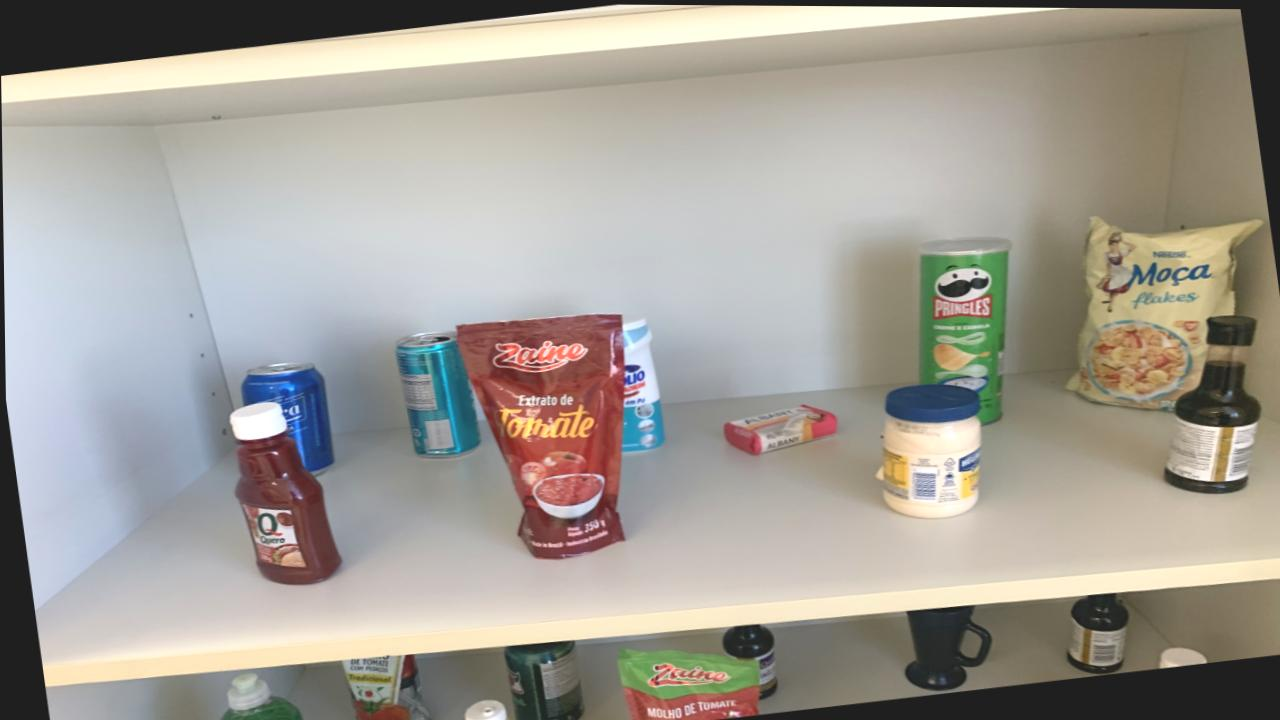Cleaner-Cleanup_Items: (620, 314, 664, 451)
Detergent-Cleanup_Items: (218, 673, 302, 720)
English_Sauce-Pantry_Items: (1162, 312, 1260, 492), (1065, 591, 1127, 672), (720, 623, 776, 698)
Flakes-Snacks: (1065, 215, 1262, 409)
Guarana_Can-Drinks: (501, 639, 582, 720)
Ketchup-Pantry_Items: (229, 402, 339, 585)
Mayonnaise-Pantry_Items: (880, 382, 981, 517)
Mustard-Pantry_Items: (1157, 645, 1205, 667), (462, 698, 506, 720)
Pringles-Snacks: (917, 235, 1011, 422)
Soap-Cleanup_Items: (723, 404, 836, 453)
Tea-Drinks: (395, 331, 479, 456)
Tomato_Sauce-Pantry_Items: (456, 312, 624, 558), (616, 648, 758, 720), (342, 654, 429, 720)
Tonic-Drinks: (239, 361, 333, 473)
